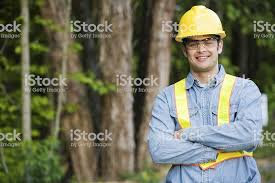Person_wearing_helmet: (173, 1, 224, 47)
